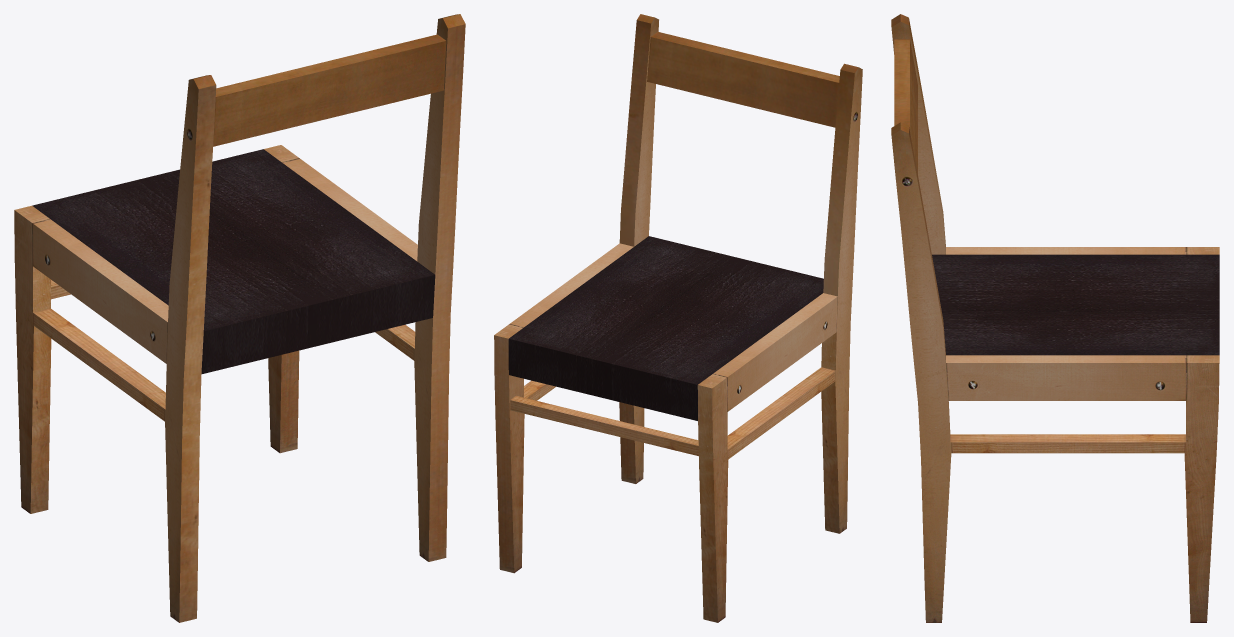
File: chair (OBJ).obj
3 views of the same model, side by side, from view 1: azimuth 30°, elevation 25°; view 2: azimuth 150°, elevation 25°; view 3: azimuth 270°, elevation 25° (orthographic). The views are drawn at different scales.
Visible parts, largest first — view 1: chair; view 2: chair; view 3: chair.
Boxes of the visible parts, <box> form: chair: <box>14,14,465,622</box>; chair: <box>494,14,862,622</box>; chair: <box>891,14,1219,622</box>.
Bounding box in the file's own units: 2.82 × 5.59 × 3.37.
